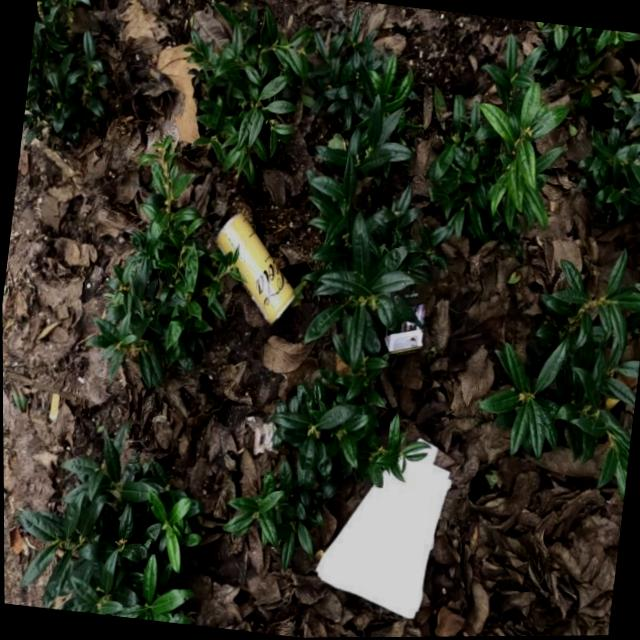Can-Metal: (203, 206, 306, 329)
Paper: (308, 425, 459, 624), (378, 268, 432, 362)
